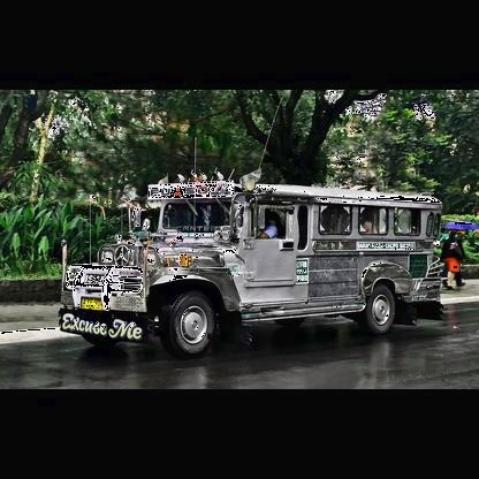jeepney: (37, 149, 441, 351)
